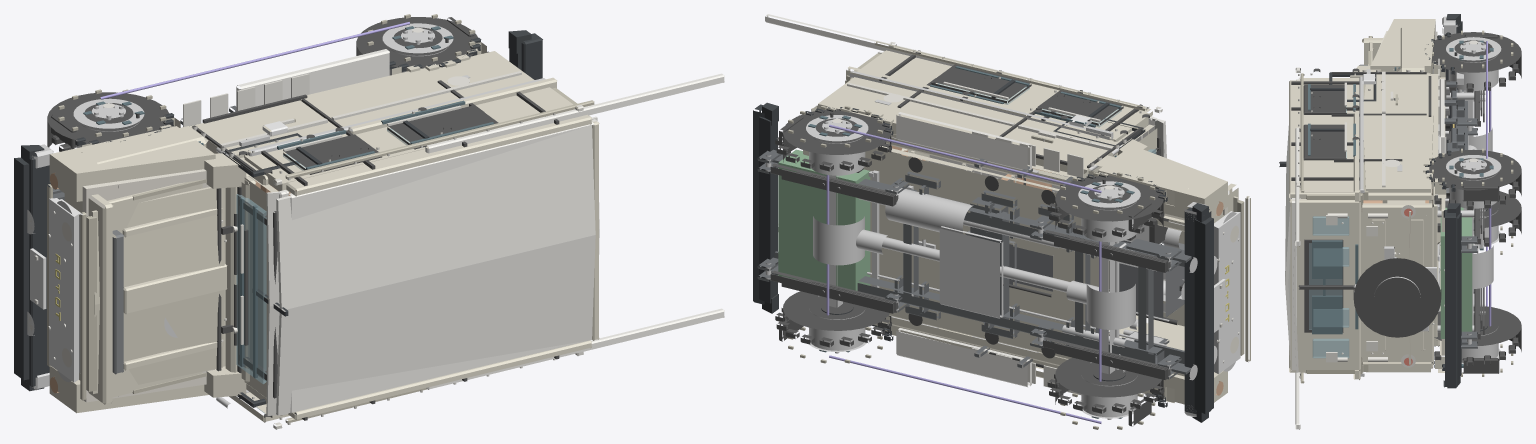
File: j40_full_vehicle_scaffold_rev_b.gltf
3 views of the same model, side by side, from view 1: azimuth 30°, elevation 25°; view 2: azimuth 150°, elevation 25°; view 3: azimuth 270°, elevation 25° (orthographic). The views are drawn at different scales.
Visible parts, largest first — view 1: white_hardtop_crowned_roof_skin, hood_crowned_closed_skin, white_hardtop_roof, right_rear_quarter_waist_tapered_surface, right_front_fender_sloped_outer_skin, front_grille_inset_rounded_surround_surface, windshield_raked_glass_surface, right_hardtop_side_tapered_upper_skin, right_hardtop_side_panel, front_bumper_swept_main_face, grille_panel, right_door_outer_skin_tapered_surface (+36 smaller); view 2: floor_pan, rear_underfloor_fuel_tank, skid_plate_transfer_case, right_rear_quarter_waist_tapered_surface, front_bumper_swept_main_face, left_frame_rail, right_side_step_board, right_hardtop_side_tapered_upper_skin, left_side_step_board, right_front_fender_sloped_outer_skin, front_grille_inset_rounded_surround_surface, front_left_tire_tire (+55 smaller); view 3: rear_hardtop_panel, rear_spare_tire, right_rear_quarter_waist_tapered_surface, tailgate_panel, right_hardtop_side_tapered_upper_skin, rear_bumper, right_door_outer_skin_tapered_surface, rear_right_tire_tire, front_right_tire_tire, right_front_fender_sloped_outer_skin, rear_underfloor_fuel_tank, rear_left_tire_tire (+52 smaller).
Part boxes in pixels (x1,y1,x2,y2): white_hardtop_crowned_roof_skin: (276, 124, 595, 415); hood_crowned_closed_skin: (91, 187, 224, 393); white_hardtop_roof: (288, 119, 598, 413); right_rear_quarter_waist_tapered_surface: (300, 51, 534, 126); right_front_fender_sloped_outer_skin: (49, 126, 215, 201); front_grille_inset_rounded_surround_surface: (49, 198, 78, 382); windshield_raked_glass_surface: (236, 194, 266, 384); right_hardtop_side_tapered_upper_skin: (244, 87, 573, 192); right_hardtop_side_panel: (286, 100, 591, 196); front_bumper_swept_main_face: (14, 157, 29, 380); grille_panel: (64, 193, 113, 404); right_door_outer_skin_tapered_surface: (190, 100, 337, 158); floor_pan: (803, 146, 1109, 359); rear_underfloor_fuel_tank: (778, 149, 870, 290); skid_plate_transfer_case: (939, 226, 1003, 318); right_rear_quarter_waist_tapered_surface: (818, 77, 1023, 139); front_bumper_swept_main_face: (1194, 217, 1213, 414); left_frame_rail: (857, 276, 1164, 363); right_side_step_board: (896, 112, 1031, 171); right_hardtop_side_tapered_upper_skin: (857, 52, 1148, 141); left_side_step_board: (896, 328, 1031, 387); right_front_fender_sloped_outer_skin: (1098, 145, 1227, 218); front_grille_inset_rounded_surround_surface: (1214, 212, 1240, 373); front_left_tire_tire: (1055, 357, 1163, 404); rear_hardtop_panel: (1289, 199, 1360, 370); rear_spare_tire: (1353, 258, 1441, 337); right_rear_quarter_waist_tapered_surface: (1363, 114, 1433, 192); tailgate_panel: (1361, 203, 1433, 362); right_hardtop_side_tapered_upper_skin: (1303, 78, 1363, 199); rear_bumper: (1443, 210, 1457, 387); right_door_outer_skin_tapered_surface: (1363, 73, 1430, 114); rear_right_tire_tire: (1429, 149, 1521, 195); front_right_tire_tire: (1431, 32, 1521, 78); right_front_fender_sloped_outer_skin: (1370, 19, 1435, 74); rear_underfloor_fuel_tank: (1440, 207, 1472, 338); rear_left_tire_tire: (1434, 306, 1521, 351).
Size of the model in its own units: 4.47 by 1.94 by 1.99.
